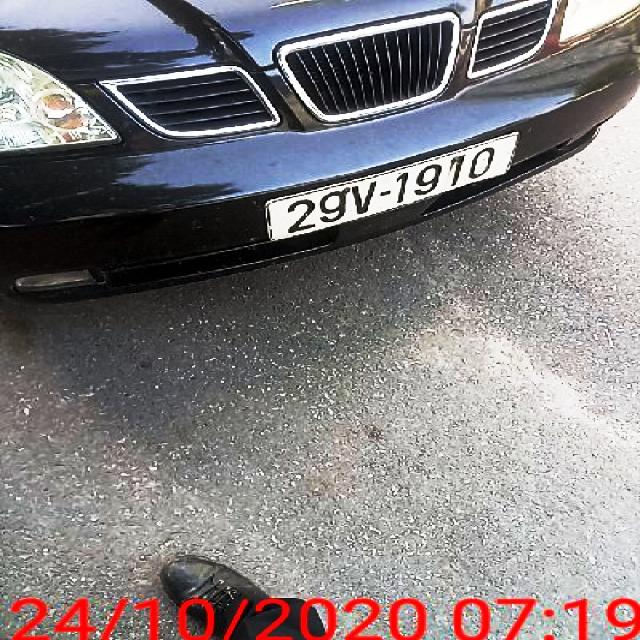license_plate: (268, 134, 517, 242)
